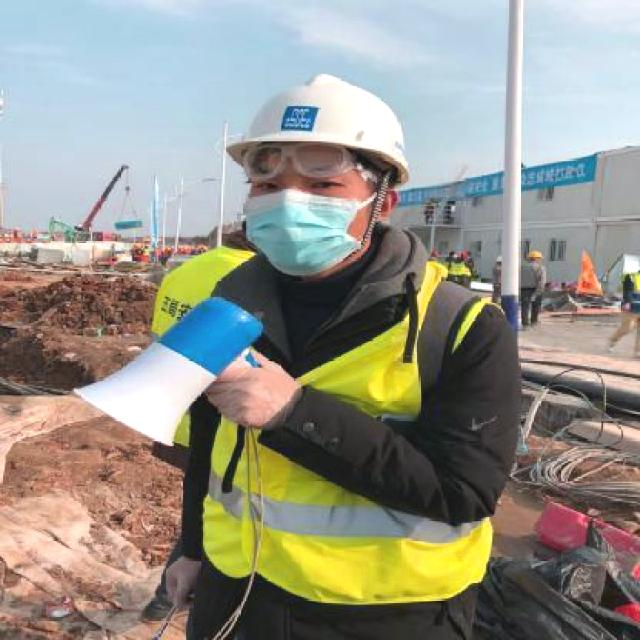face_mask: (245, 148, 362, 275)
glasses: (242, 142, 362, 186)
hand_glove: (207, 349, 296, 434), (162, 552, 206, 610)
head_helmet: (200, 77, 409, 175)
person: (115, 52, 536, 640)
vest: (155, 245, 511, 600)
